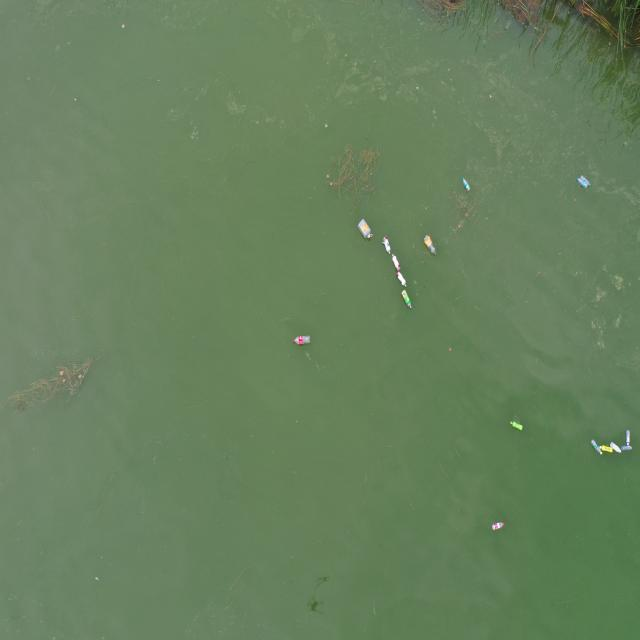Plastic Bottle: (358, 218, 372, 240), (424, 234, 436, 256), (401, 289, 412, 309), (590, 439, 602, 455), (293, 335, 311, 345), (396, 271, 407, 287), (392, 253, 401, 271), (382, 236, 390, 255), (576, 177, 588, 189), (610, 442, 622, 454), (510, 420, 523, 431), (580, 174, 591, 187), (462, 176, 470, 192), (491, 522, 505, 531), (599, 445, 613, 453), (621, 445, 632, 451), (626, 430, 630, 446)
